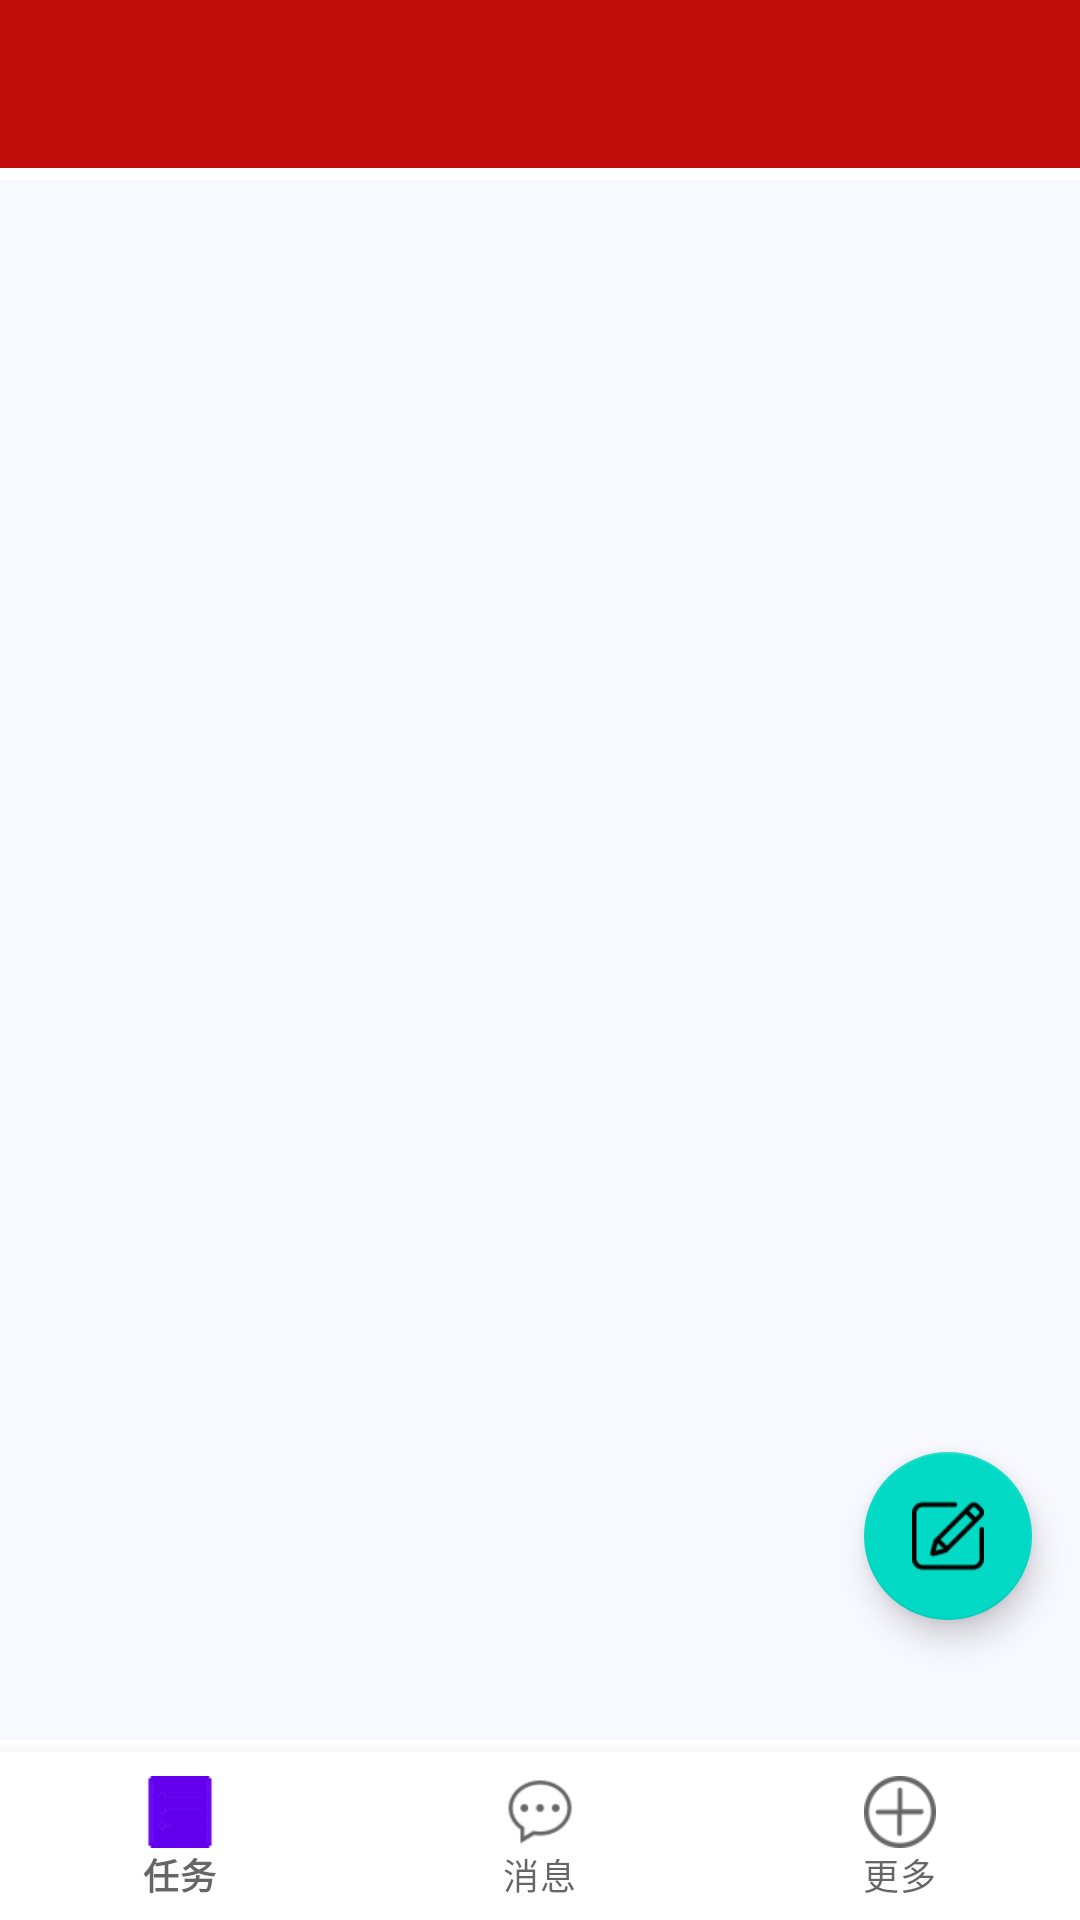

Screen size 1080px x 1920px. Icon name, then its center in pixels as (x,y):
fabu: (948,1536)
